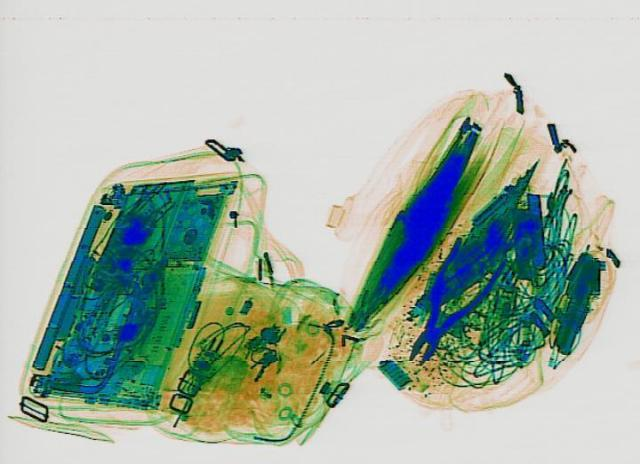Pliers: (383, 234, 515, 369)
